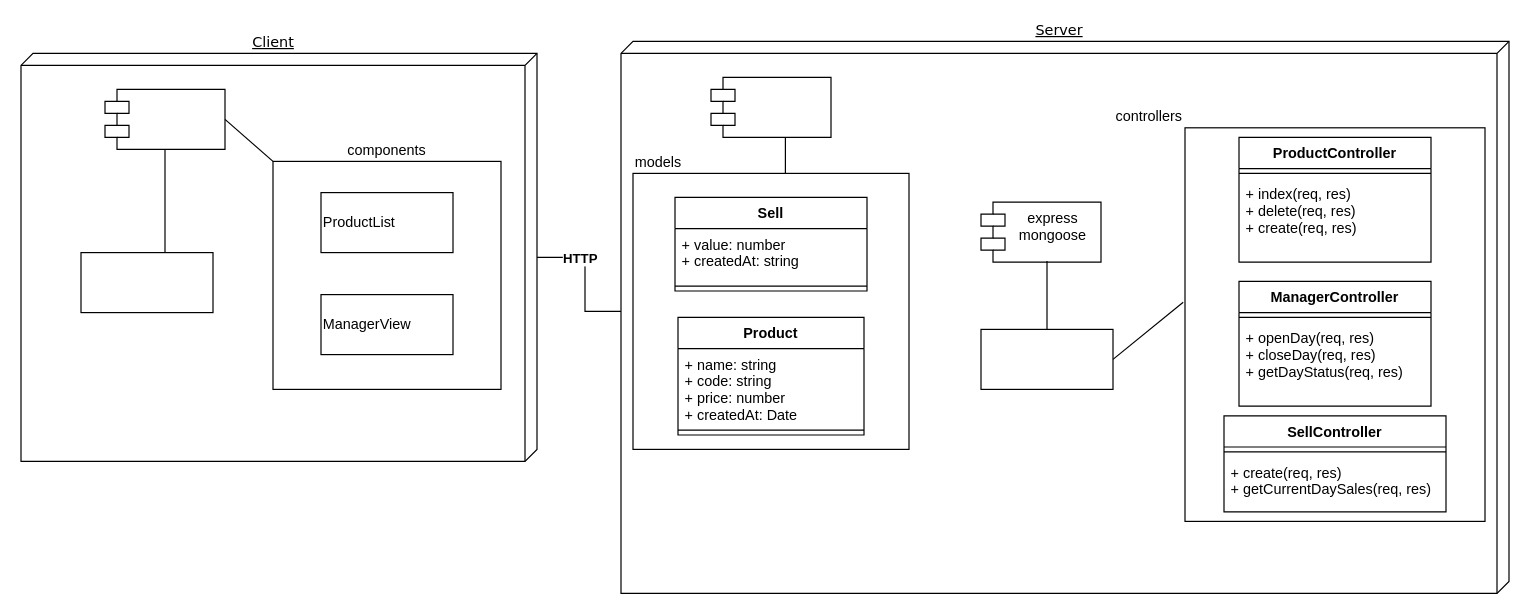
The diagram is 1530 pixels wide and 614 high, and some of its shapes have lost their labels. Each missing label, with the centre of its shape:
App: (146,282)
mongoose: (770,106)
react: (164,118)
server.js: (1046,358)
